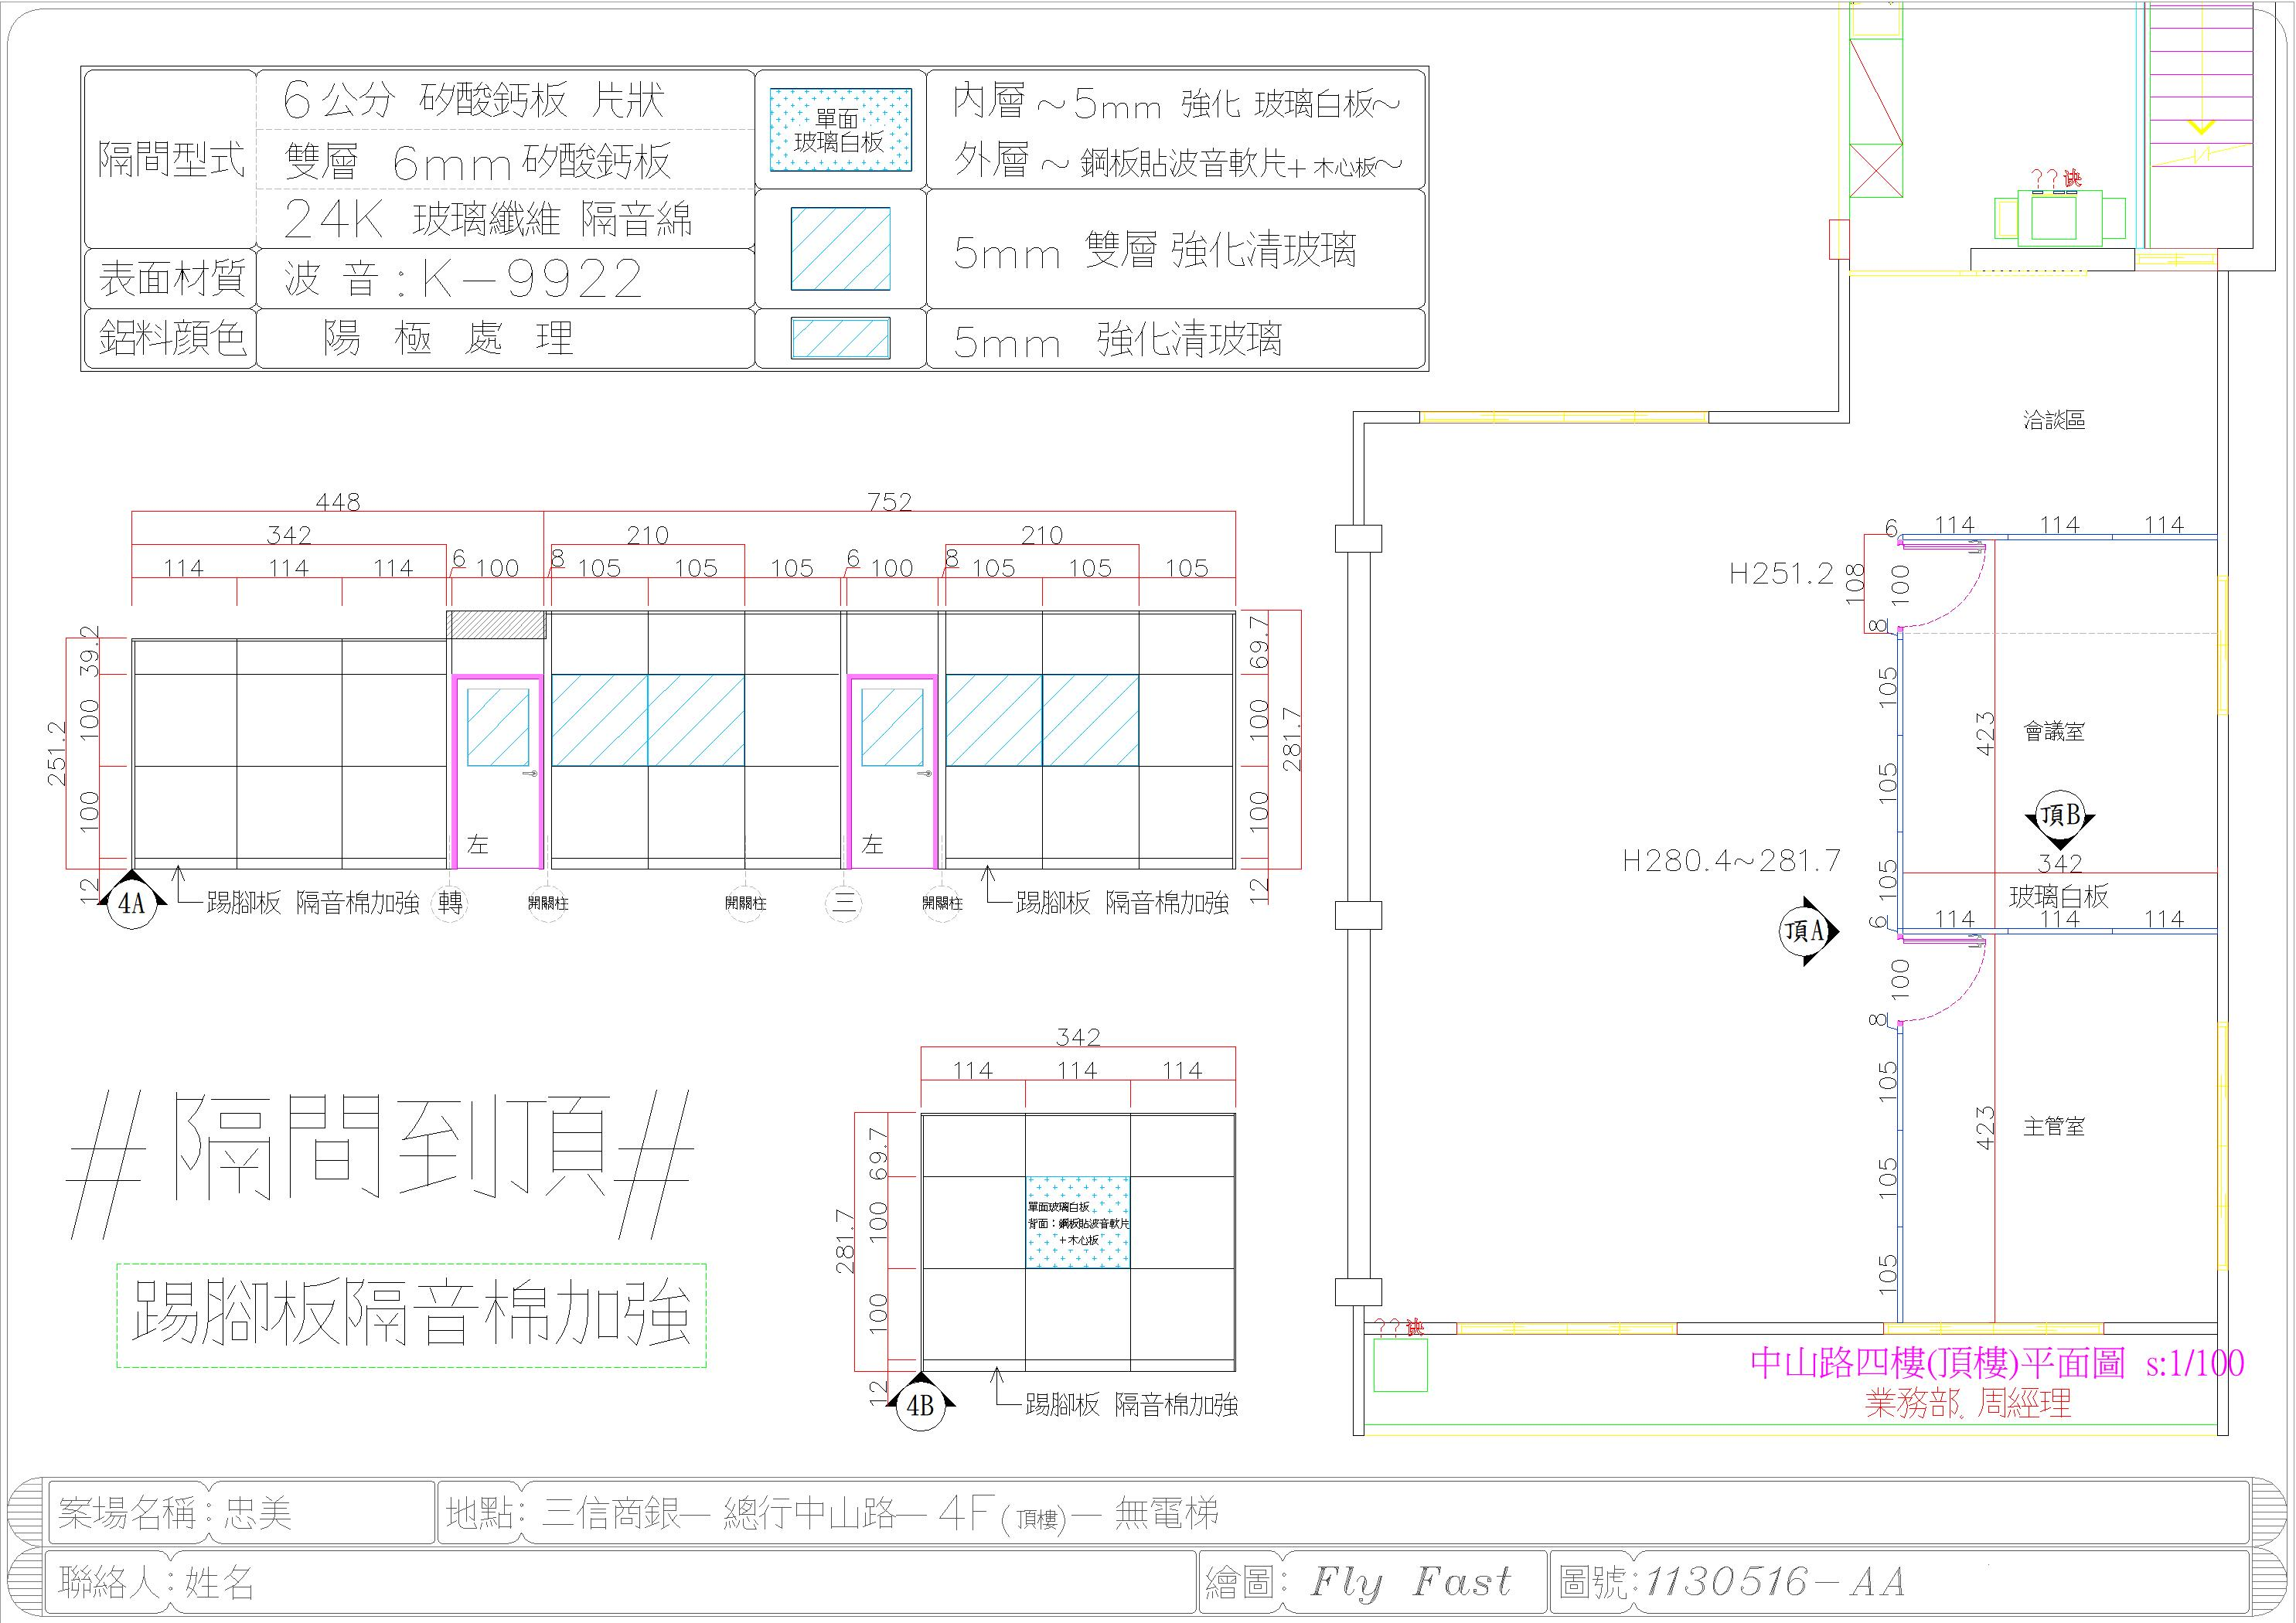SG: (1042, 673, 1138, 764)
WB: (1026, 1177, 1130, 1268)
